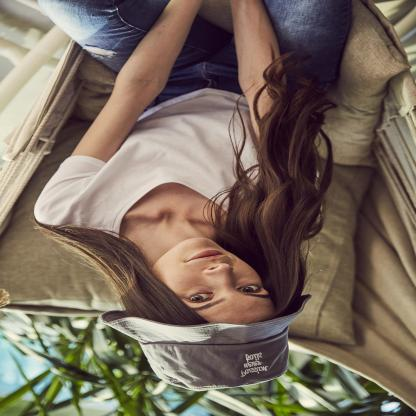hat: (92, 294, 315, 392)
